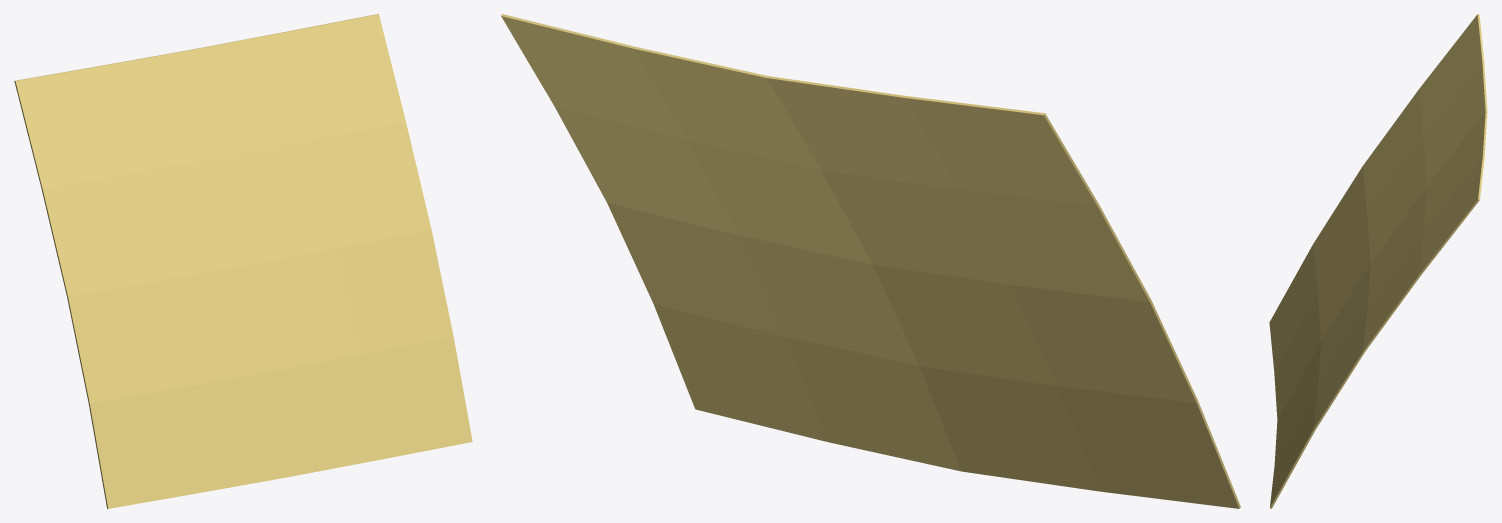
File: LapStengd 1.fbx
3 views of the same model, side by side, from view 1: azimuth 30°, elevation 25°; view 2: azimuth 150°, elevation 25°; view 3: azimuth 270°, elevation 25° (orthographic). The views are drawn at different scales.
Parts seen in each view (by area): view 1: Lap.001; view 2: Lap.001; view 3: Lap.001.
Part boxes in pixels (x1=…): Lap.001: x1=14, y1=14, x2=472, y2=508; Lap.001: x1=501, y1=14, x2=1240, y2=508; Lap.001: x1=1269, y1=14, x2=1487, y2=508.
Size of the model in its own units: 13.88 by 12.6 by 7.37.
